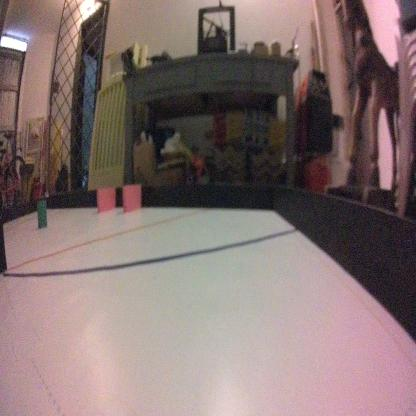green: (34, 193, 49, 231)
magenta: (122, 182, 140, 212), (96, 188, 116, 214)
